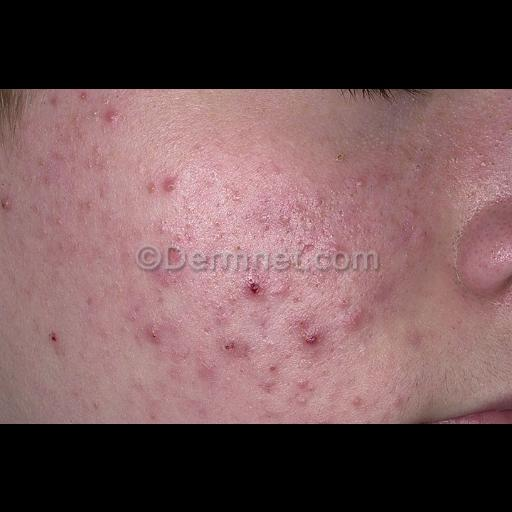Skin_Lesion: (146, 218, 184, 250), (289, 370, 317, 406), (148, 163, 176, 197), (295, 316, 323, 348), (220, 330, 248, 360), (242, 268, 268, 300), (345, 298, 369, 330), (144, 312, 166, 346), (46, 322, 68, 356), (100, 100, 122, 132), (206, 302, 230, 328), (404, 152, 430, 176), (0, 186, 16, 216), (407, 323, 425, 349), (84, 289, 102, 313), (328, 148, 350, 164), (342, 398, 366, 408), (76, 88, 90, 102)
